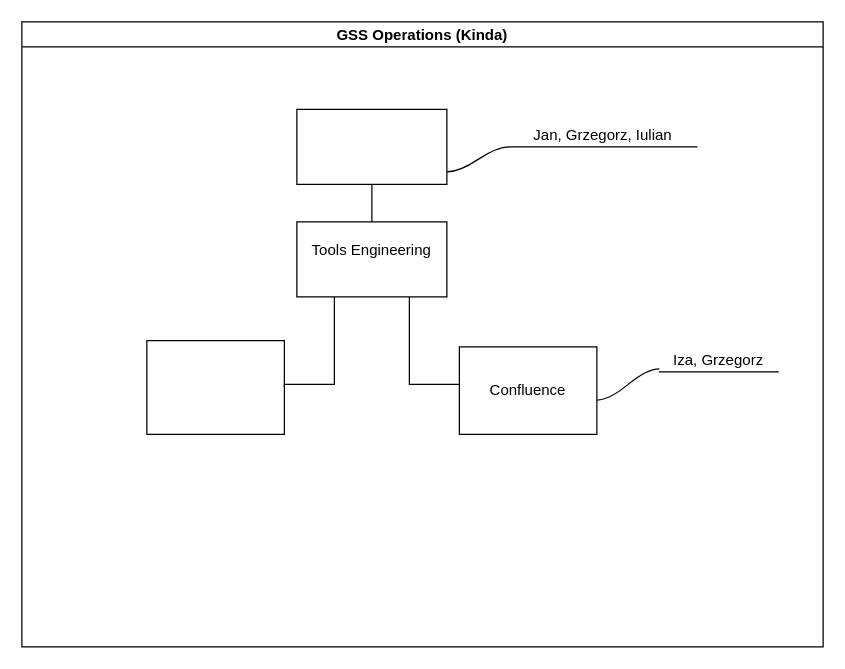
Image size: 845x669. Some labels were removed from this diagram. Each missing label, with the box of its shape:
GSS-Ops-Krakow: (296, 108, 447, 184)
Jira: (146, 339, 284, 434)
